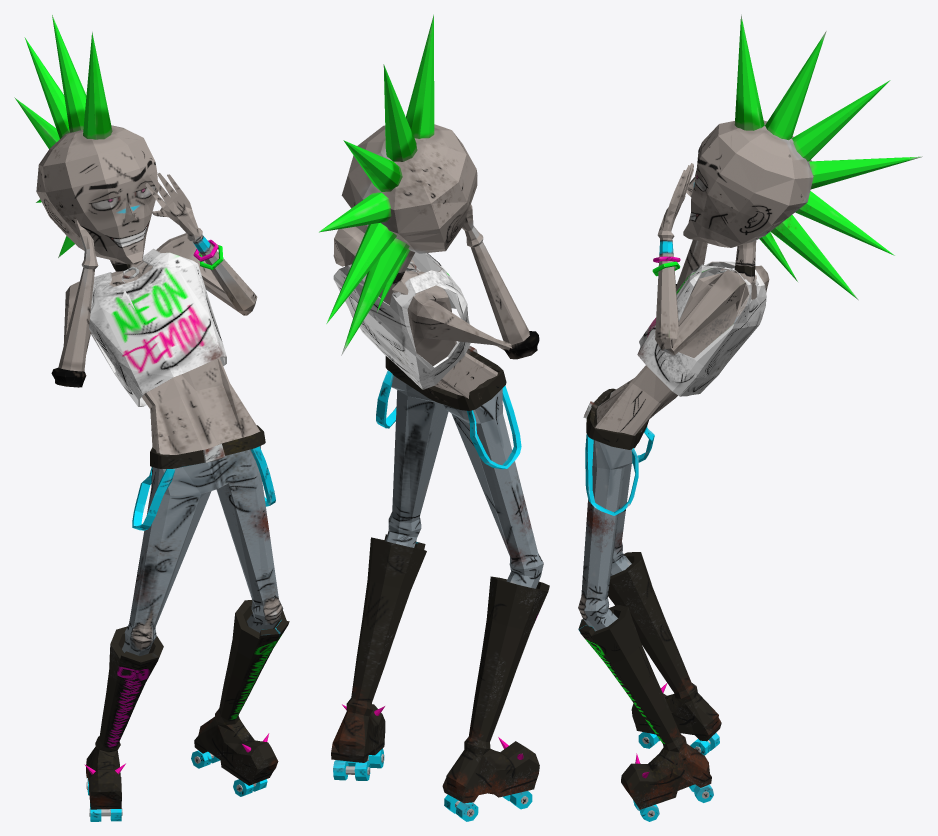
The model's file is punkAnimation_000012.obj.
The picture shows the model from 3 angles, left to right: view 1: azimuth 30°, elevation 25°; view 2: azimuth 150°, elevation 25°; view 3: azimuth 270°, elevation 25°; orthographic projection. The views are drawn at different scales.
Parts seen in each view (by area): view 1: Cube.004_Cube.003; view 2: Cube.004_Cube.003; view 3: Cube.004_Cube.003.
Boxes of the visible parts, left/top/right/bottom form: Cube.004_Cube.003: left=14, top=15, right=289, bottom=821; Cube.004_Cube.003: left=319, top=14, right=549, bottom=821; Cube.004_Cube.003: left=578, top=14, right=922, bottom=821.
Size of the model in its own units: 1.95 by 7.1 by 2.98.
